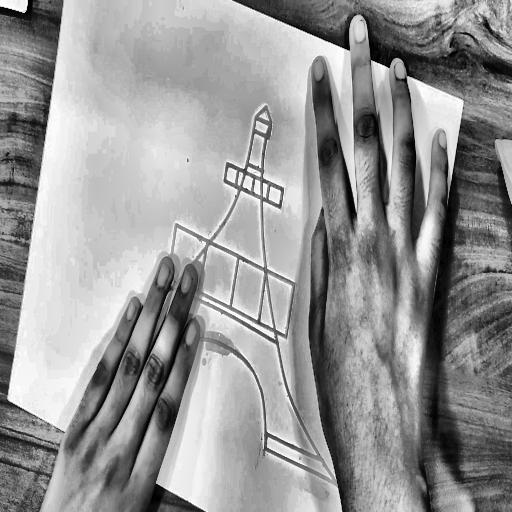bottom_left: (6, 396, 10, 403)
eiffel-tower: (81, 38, 411, 503)
top_right: (461, 97, 465, 105)
